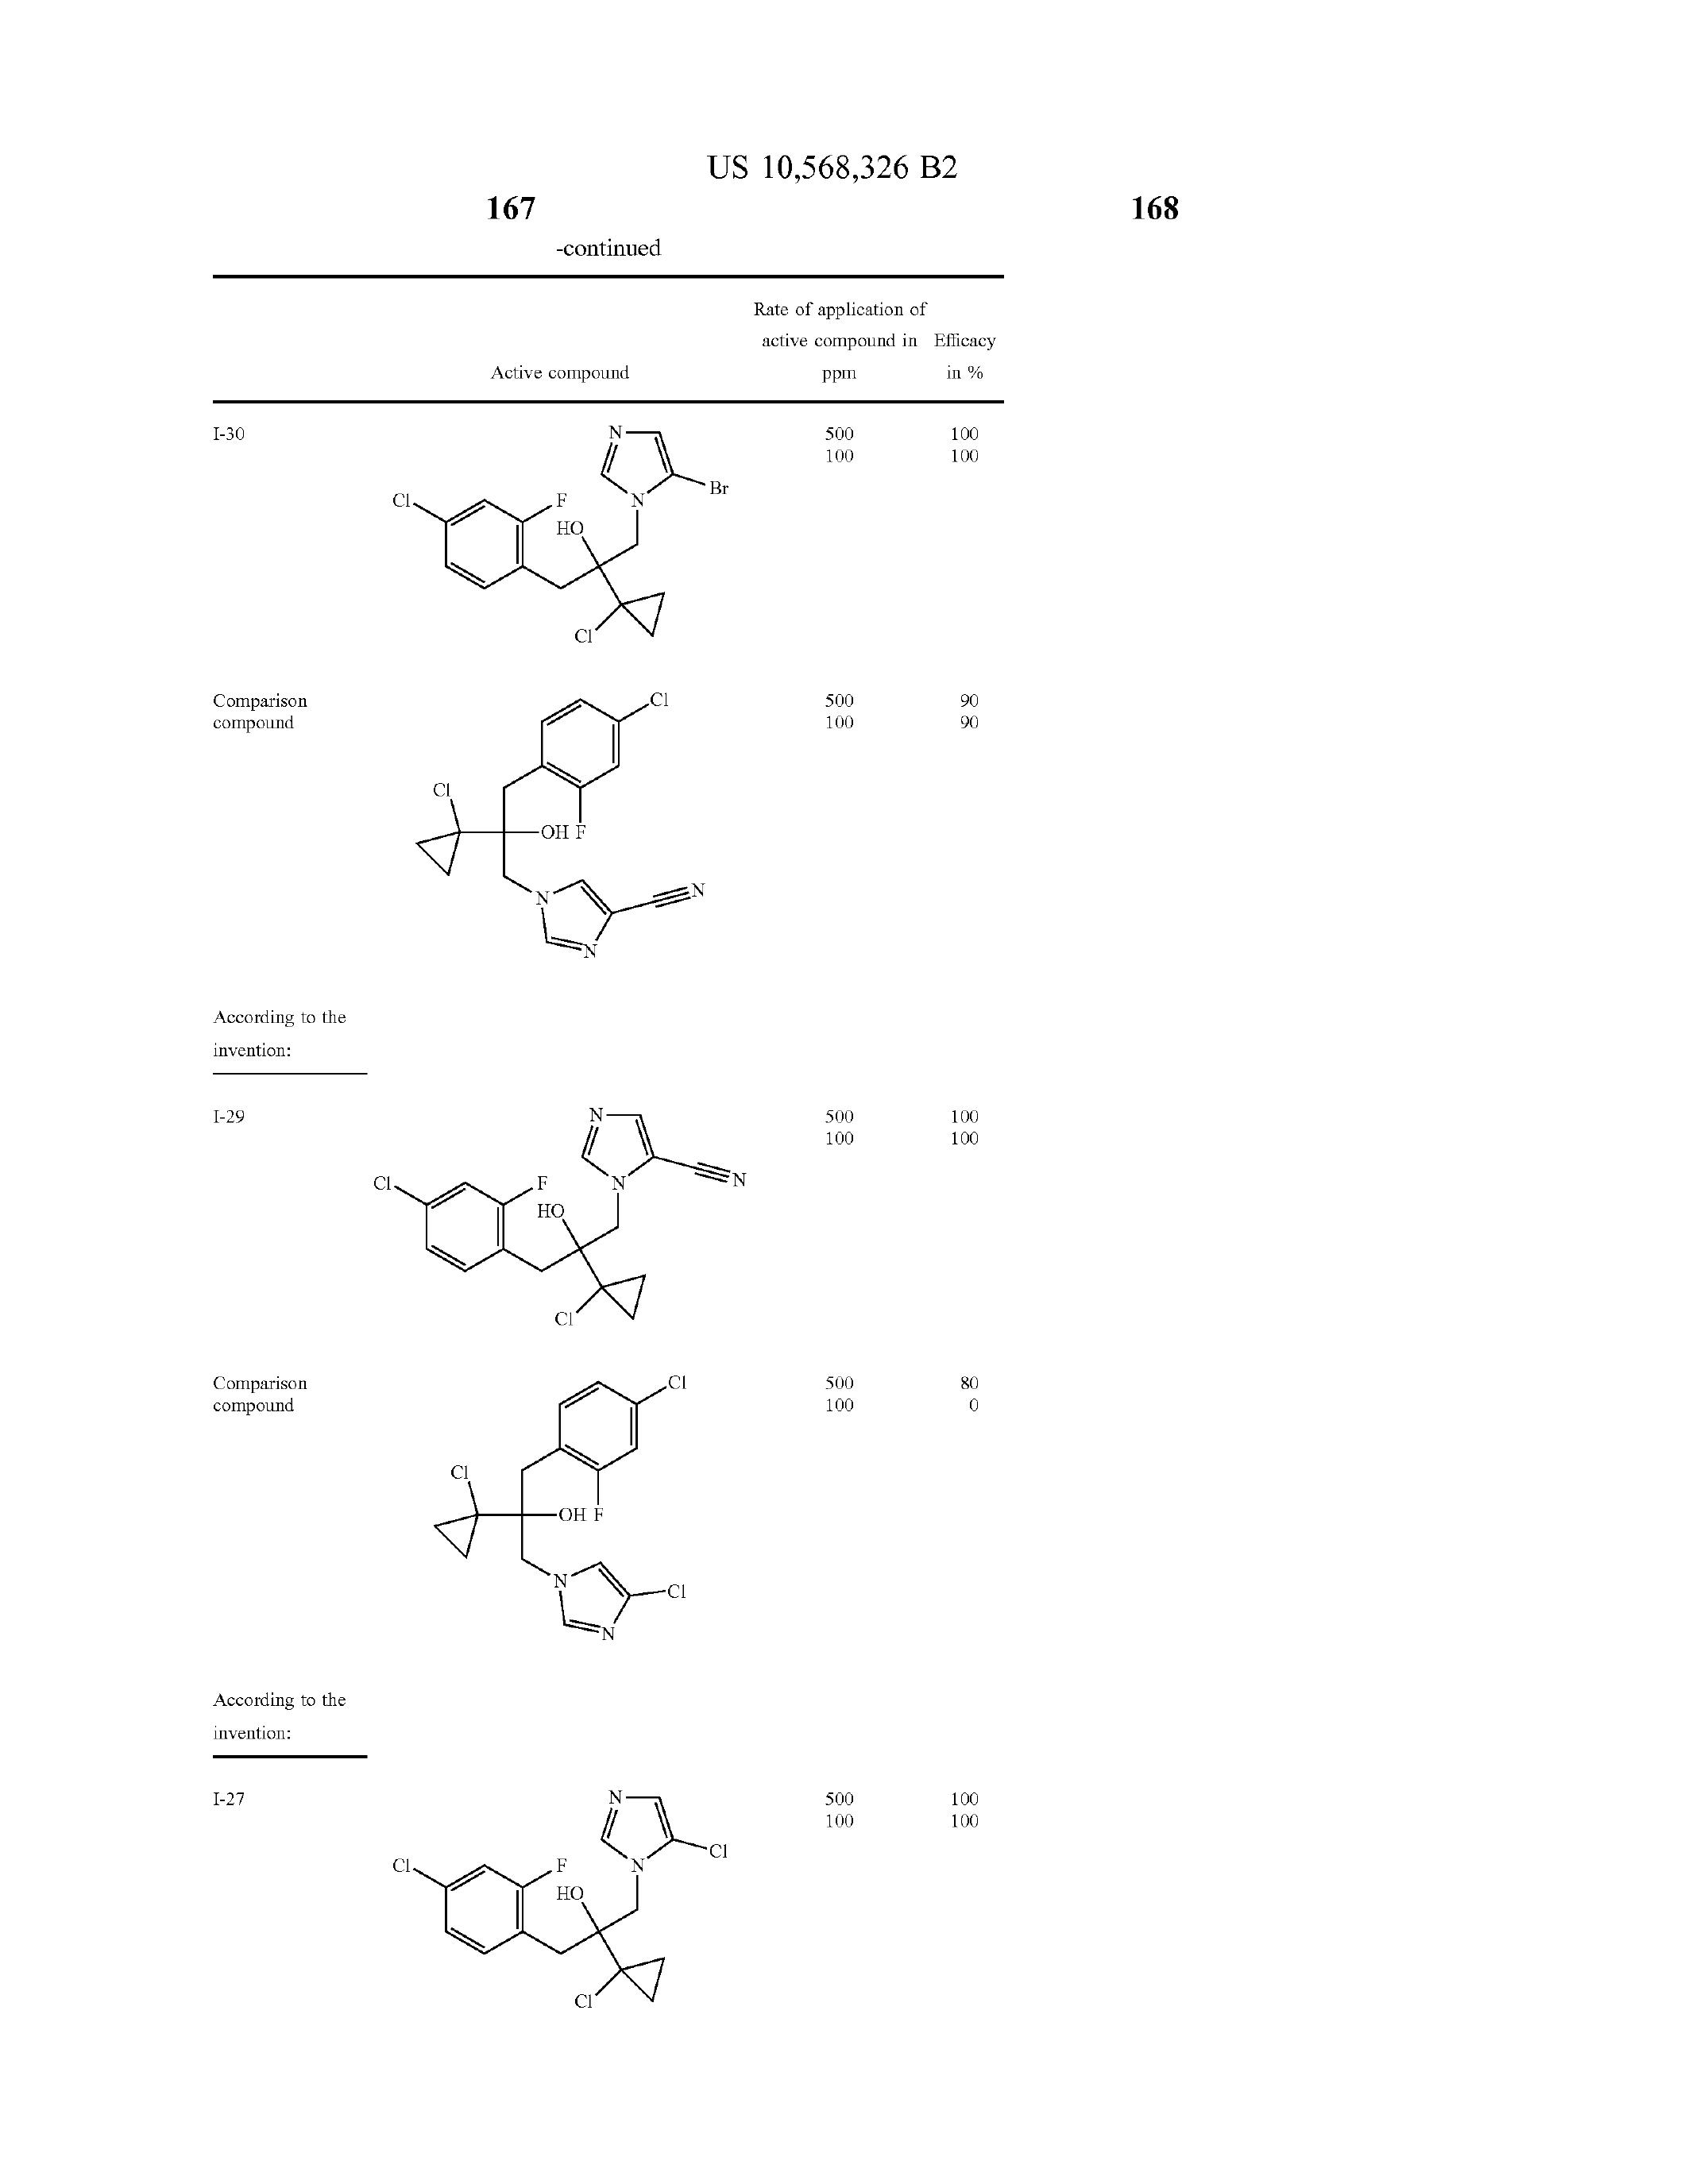relevant-structures: (372, 688, 761, 1005), (372, 1071, 755, 1372), (383, 1776, 777, 2047), (383, 1383, 723, 1679), (383, 427, 761, 652)
